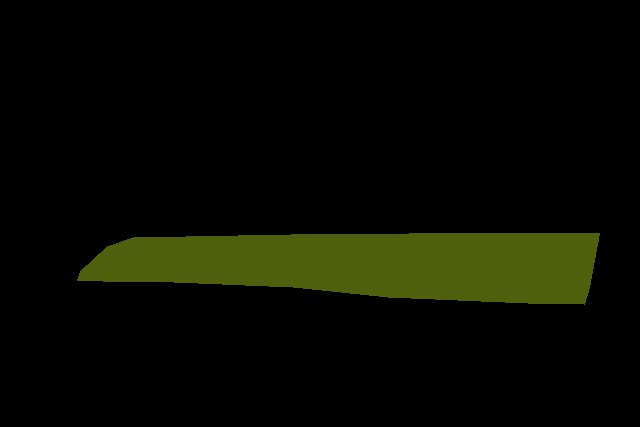Train: (77, 233, 599, 305)
